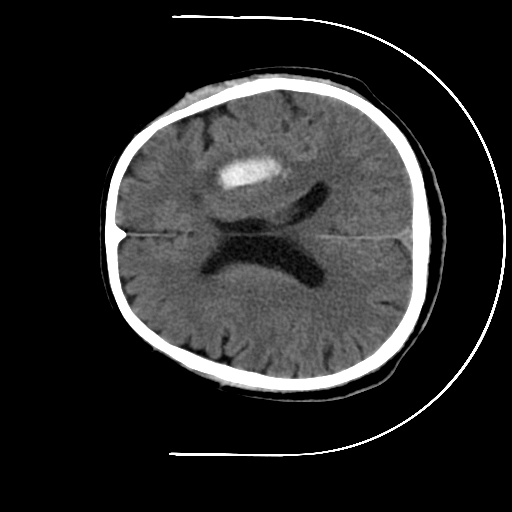a: (191, 134, 314, 201)
